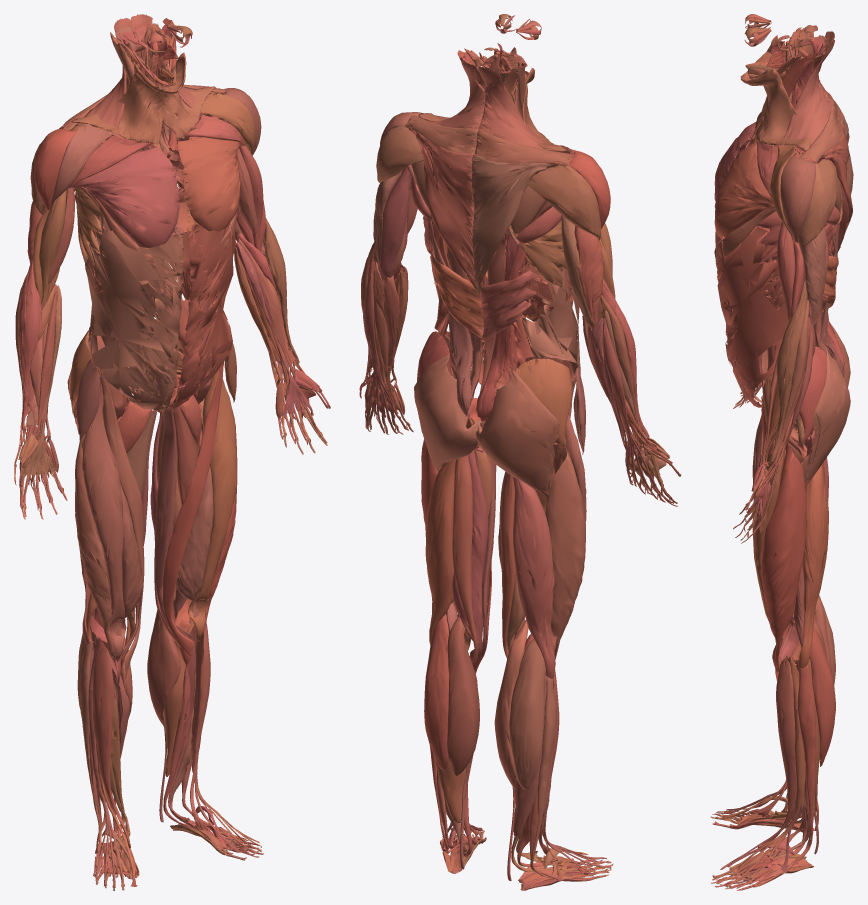
Rendered from muscles.glb.
The picture shows the model from 3 angles, left to right: view 1: azimuth 30°, elevation 25°; view 2: azimuth 150°, elevation 25°; view 3: azimuth 270°, elevation 25°; orthographic projection.
Parts seen in each view (by area): view 1: muscle-FMA13336, muscle-FMA13337, muscle-FMA79979, muscle-FMA38928, muscle-FMA79980, muscle-FMA38929, muscle-FMA22355, muscle-FMA38930, muscle-FMA45739, muscle-FMA43884, muscle-FMA22354, muscle-FMA22544 (+43 smaller); view 2: muscle-FMA22328, muscle-FMA45888, muscle-FMA38930, muscle-FMA33583, muscle-FMA33581, muscle-FMA22329, muscle-FMA45960, muscle-FMA45958, muscle-FMA45889, muscle-FMA13336, muscle-FMA22359, muscle-FMA45961 (+44 smaller); view 3: muscle-FMA13337, muscle-FMA38931, muscle-FMA45889, muscle-FMA79980, muscle-FMA22329, muscle-FMA22545, muscle-FMA45740, muscle-FMA34683, muscle-FMA33587, muscle-FMA45961, muscle-FMA38487, muscle-FMA22553 (+35 smaller).
Boxes of the visible parts, x1,y1,x2,y2 form: muscle-FMA13336: (84,216,183,411); muscle-FMA13337: (168,223,235,408); muscle-FMA79979: (68,146,180,247); muscle-FMA38928: (82,382,126,661); muscle-FMA79980: (177,137,242,231); muscle-FMA38929: (188,369,237,641); muscle-FMA22355: (162,362,224,664); muscle-FMA38930: (75,433,115,660); muscle-FMA45739: (71,64,175,144); muscle-FMA43884: (154,408,191,639); muscle-FMA22354: (98,372,144,678); muscle-FMA22544: (92,640,130,848); muscle-FMA22328: (476,370,560,497); muscle-FMA45888: (513,476,555,678); muscle-FMA38930: (545,444,585,659); muscle-FMA33583: (415,131,480,298); muscle-FMA33581: (471,154,558,298); muscle-FMA22329: (414,354,478,471); muscle-FMA45960: (509,639,545,789); muscle-FMA45958: (447,616,479,775); muscle-FMA45889: (425,459,456,644); muscle-FMA13336: (520,268,580,374); muscle-FMA22359: (452,455,478,666); muscle-FMA45961: (424,614,448,769); muscle-FMA13337: (715,225,788,407); muscle-FMA38931: (761,441,806,671); muscle-FMA45889: (798,464,828,668); muscle-FMA79980: (714,142,774,240); muscle-FMA22329: (802,349,850,485); muscle-FMA22545: (757,657,796,851); muscle-FMA45740: (740,69,810,150); muscle-FMA34683: (780,155,815,242); muscle-FMA33587: (783,40,834,144); muscle-FMA45961: (793,620,835,766); muscle-FMA38487: (769,276,807,463); muscle-FMA22553: (764,662,815,866).
Size of the model in its own units: 0.6736 by 1.7 by 0.2651.
